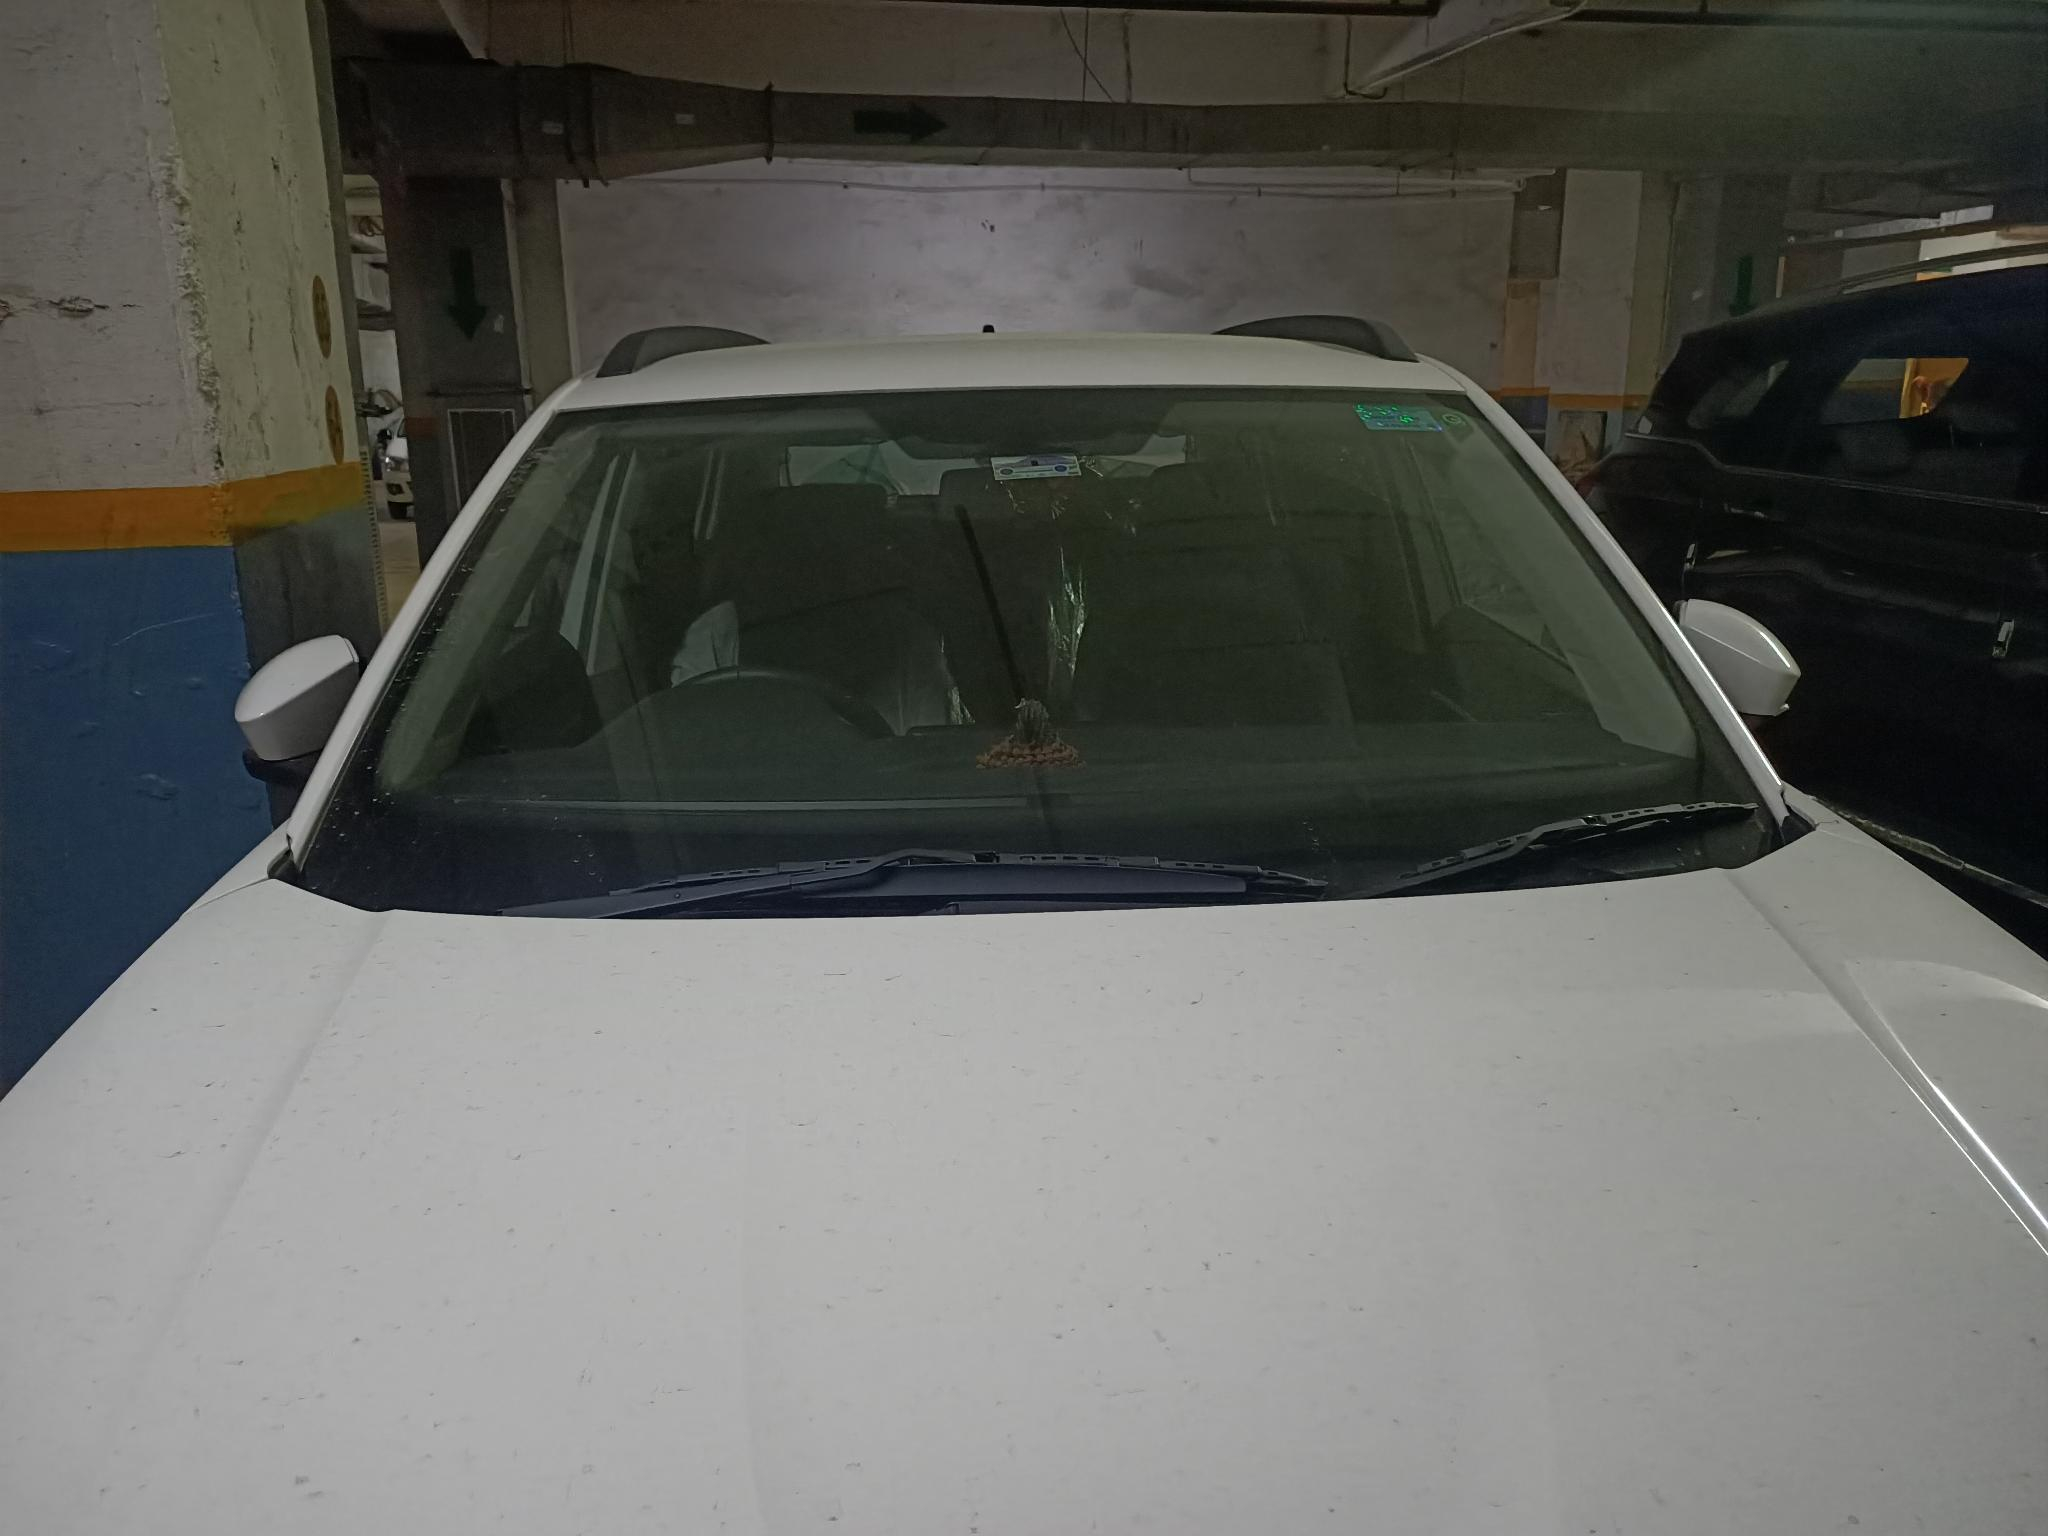FastTag: (968, 442, 1105, 494)
